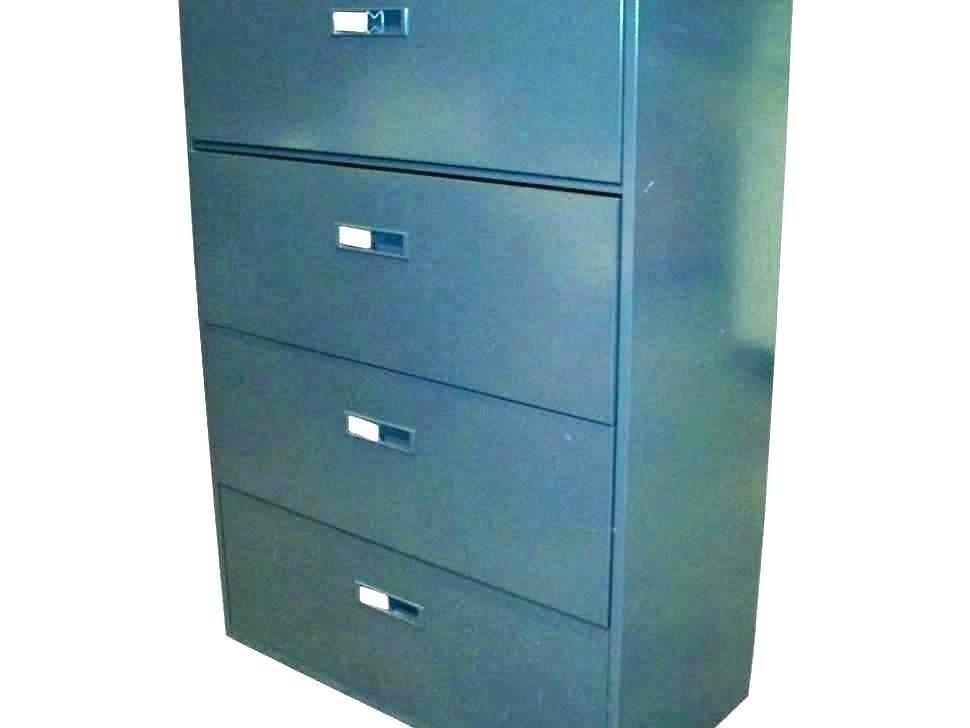Filing Cabinet: (178, 0, 636, 727)
